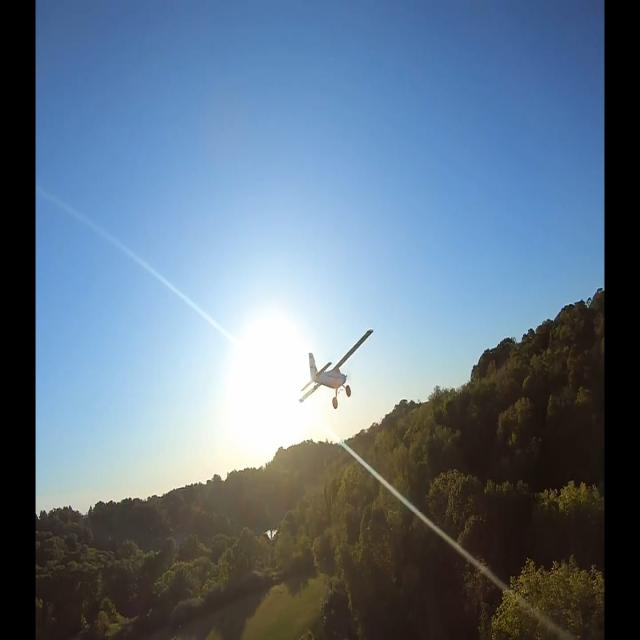iha: (328, 354, 342, 384)
